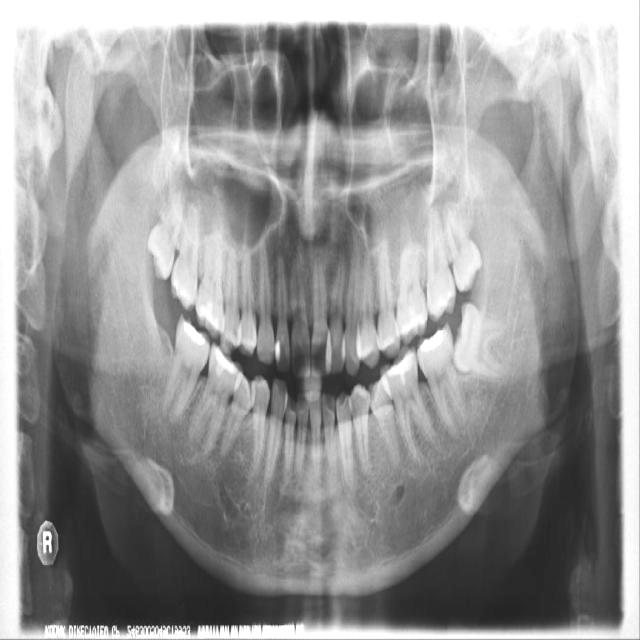Filling: (416, 329, 448, 354), (212, 348, 237, 379), (388, 349, 415, 377), (196, 302, 222, 327), (181, 322, 203, 344)
impacted tooth: (457, 303, 518, 380), (148, 174, 184, 280), (440, 205, 479, 291)
